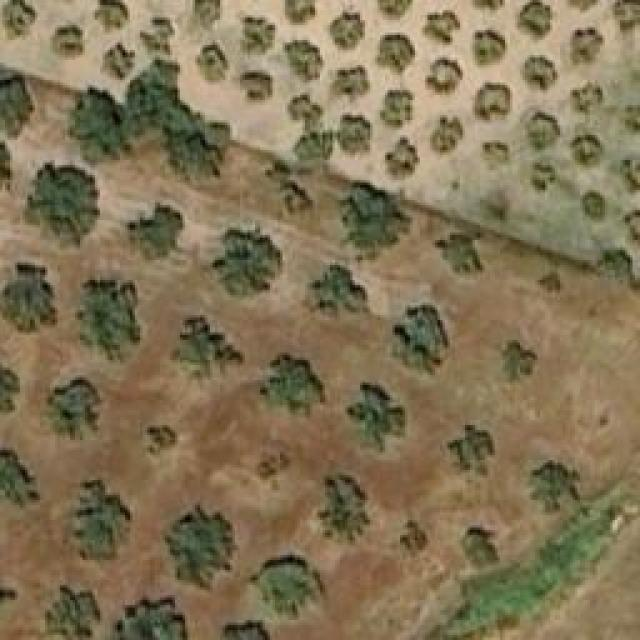Tree: (128, 63, 228, 178), (63, 477, 133, 565), (165, 505, 238, 588), (28, 165, 101, 248), (78, 275, 141, 363), (258, 555, 331, 620), (170, 318, 245, 381), (340, 183, 398, 263), (68, 88, 131, 161), (220, 227, 283, 295), (347, 383, 405, 453), (392, 305, 450, 375), (263, 353, 326, 416), (3, 263, 58, 333), (318, 475, 371, 543), (115, 595, 195, 640), (48, 378, 101, 441), (300, 265, 365, 313), (45, 585, 100, 640), (128, 203, 183, 253), (0, 450, 42, 507), (430, 230, 480, 275), (533, 460, 573, 515), (447, 425, 495, 470), (514, 0, 557, 42), (423, 58, 463, 103), (285, 40, 325, 83), (390, 515, 430, 558), (460, 528, 500, 571), (373, 33, 416, 73), (323, 12, 366, 50), (0, 75, 28, 133), (385, 138, 420, 181), (503, 340, 538, 383), (285, 90, 323, 128), (3, 0, 38, 40), (330, 65, 370, 100), (420, 10, 460, 45), (475, 80, 510, 120), (380, 90, 415, 130), (0, 352, 20, 420), (92, 0, 130, 35), (195, 45, 230, 83), (520, 55, 558, 90), (295, 133, 333, 168), (525, 112, 560, 150), (243, 18, 276, 58), (570, 27, 603, 65), (430, 117, 463, 155), (338, 115, 371, 153), (140, 15, 173, 53), (600, 245, 635, 280), (100, 43, 133, 78), (213, 622, 273, 640), (475, 30, 505, 65), (53, 25, 83, 58), (240, 73, 273, 103), (573, 83, 603, 116), (143, 427, 178, 455), (285, 0, 318, 28), (612, 0, 639, 32), (530, 163, 558, 193), (572, 135, 600, 165), (377, 0, 414, 22), (192, 0, 220, 28), (583, 188, 606, 221), (620, 158, 640, 193), (470, 0, 505, 15), (625, 208, 640, 243), (625, 108, 640, 133)
